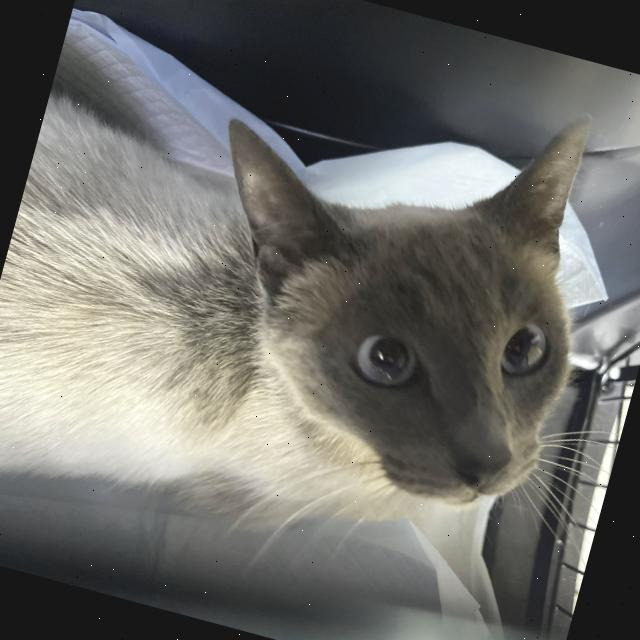siamese_cat: (132, 19, 640, 569)
